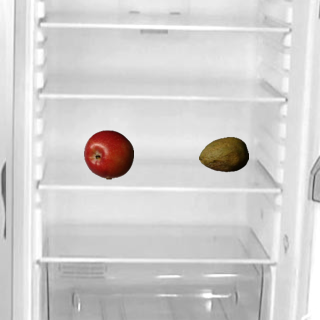Apple Braeburn: (83, 129, 133, 179)
Papaya: (198, 129, 248, 179)
